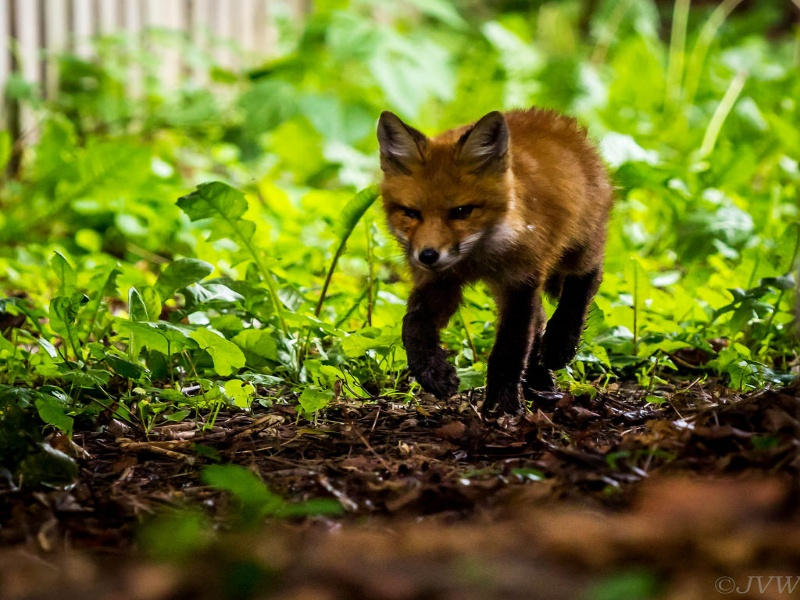fox: (372, 104, 619, 431)
